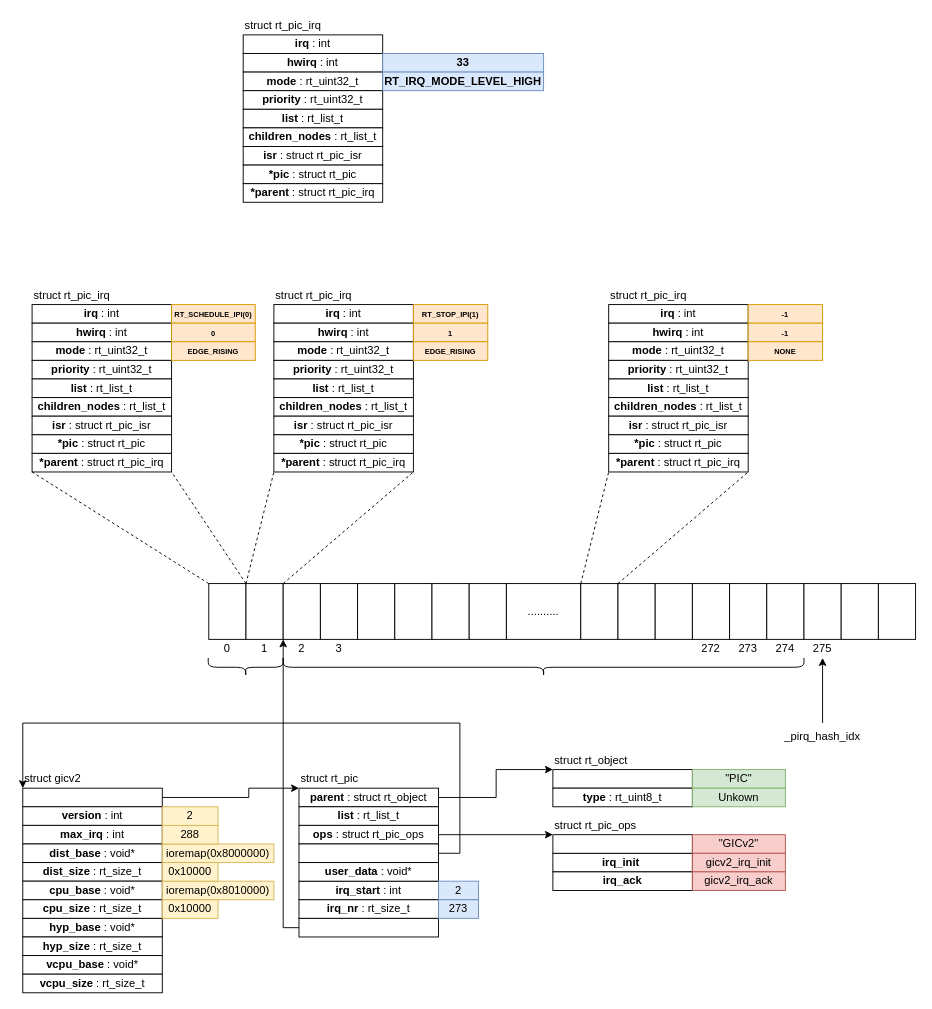
Image size: 932x1009. Some labels were removed from this diagram. The shapes that lost their labels are listed below. From the top down, each one's box as (x1, y1, x2, y2) in pixels, then its label:
(207, 657, 283, 677): GIC_hwirq[0~1]
(282, 657, 804, 677): GIC_hwirq[16~287]
(22, 787, 162, 807): parent : struct rt_pic
(552, 769, 692, 788): name[] : char
(298, 843, 438, 863): priv_data : void*
(552, 834, 692, 853): name
(298, 917, 438, 937): *pirqs : struct rt_pic_irq
